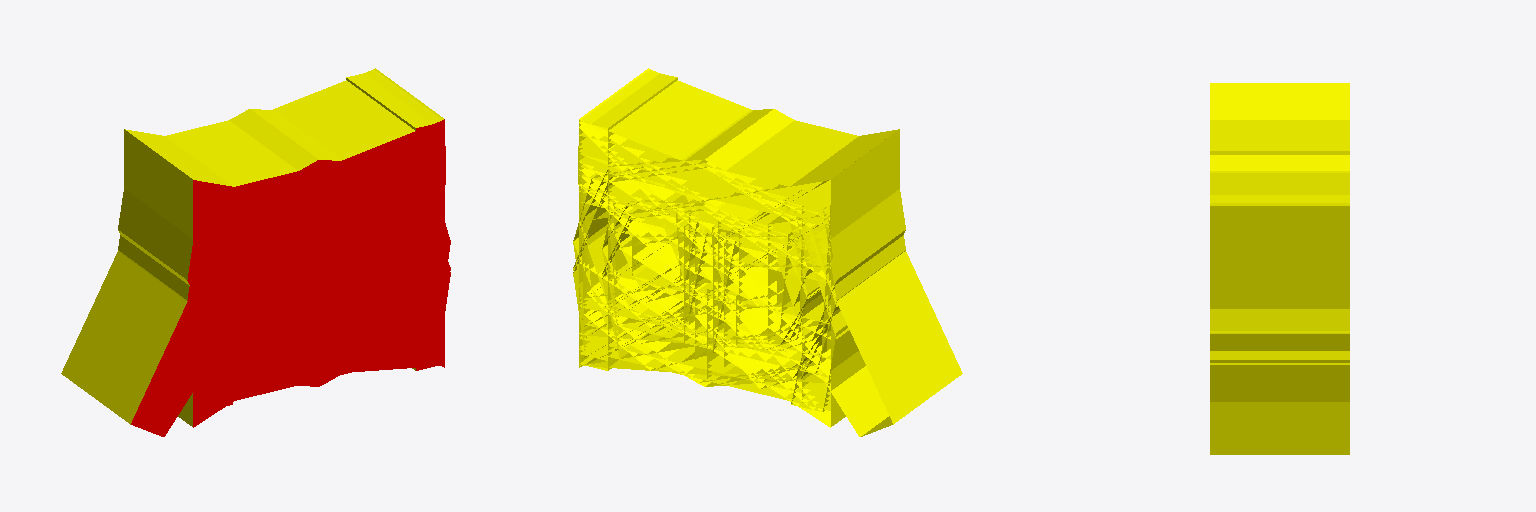
Rendered from FNTLET.obj.
3 renders of one model, left to right at view 1: azimuth 30°, elevation 25°; view 2: azimuth 150°, elevation 25°; view 3: azimuth 270°, elevation 25°, orthographic.
Visible parts, largest first — view 1: Q, W, M, J, V, X, T, Y, A, E, H, P_P.001 (+12 smaller); view 2: Q, W, M, A, J, D, X, S, N, G, R, K (+14 smaller); view 3: M, S, N, C, W, A, T, Y, O_P, V, X, Z (+5 smaller).
Part boxes in pixels (left/top/right/bottom): Q: left=61, top=109, right=450, bottom=436; W: left=124, top=69, right=444, bottom=382; M: left=124, top=110, right=444, bottom=409; J: left=118, top=184, right=444, bottom=350; V: left=194, top=68, right=444, bottom=364; X: left=124, top=128, right=444, bottom=417; T: left=193, top=73, right=444, bottom=370; Y: left=193, top=125, right=444, bottom=367; A: left=125, top=129, right=444, bottom=427; E: left=158, top=161, right=444, bottom=408; H: left=124, top=155, right=443, bottom=396; P_P.001: left=128, top=171, right=419, bottom=309; Q: left=573, top=109, right=962, bottom=436; W: left=579, top=69, right=899, bottom=383; M: left=579, top=110, right=899, bottom=410; A: left=579, top=129, right=899, bottom=427; J: left=579, top=173, right=905, bottom=350; D: left=579, top=137, right=830, bottom=382; X: left=579, top=125, right=899, bottom=426; S: left=573, top=166, right=905, bottom=388; N: left=578, top=146, right=899, bottom=399; G: left=573, top=160, right=847, bottom=406; R: left=579, top=152, right=899, bottom=422; K: left=579, top=149, right=899, bottom=423; M: left=1210, top=120, right=1349, bottom=436; S: left=1210, top=309, right=1349, bottom=350; N: left=1210, top=234, right=1349, bottom=423; C: left=1210, top=363, right=1349, bottom=401; W: left=1210, top=173, right=1349, bottom=452; A: left=1210, top=84, right=1349, bottom=119; T: left=1210, top=195, right=1349, bottom=440; Y: left=1210, top=210, right=1349, bottom=454; O_P: left=1210, top=155, right=1349, bottom=170; V: left=1210, top=206, right=1349, bottom=453; X: left=1210, top=83, right=1349, bottom=447; Z: left=1210, top=273, right=1349, bottom=426.
Bounding box in the file's own units: 6.39 × 4.78 × 2.4.